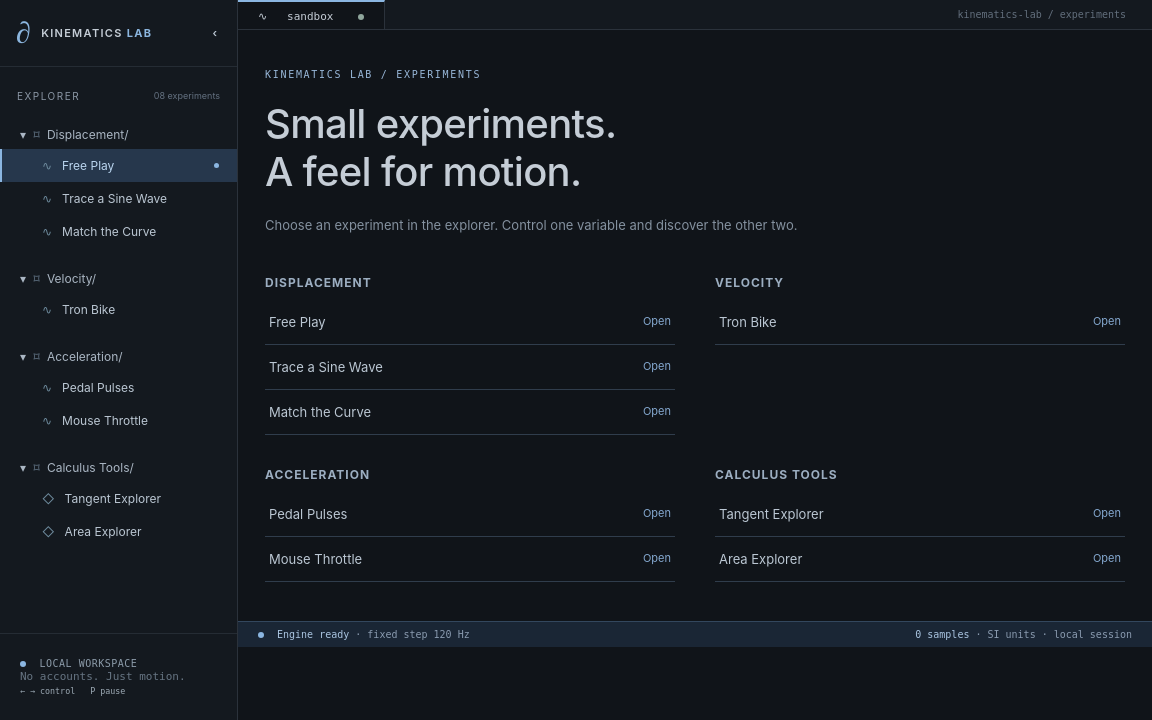
Scenario: stable countdown structure › retains the same scene, control nodes, and graph containers at GO: Free Play
The image size is (1152, 720).
Click the button "∿ Free Play": {"x": 118, "y": 166} [0,149,237,182]
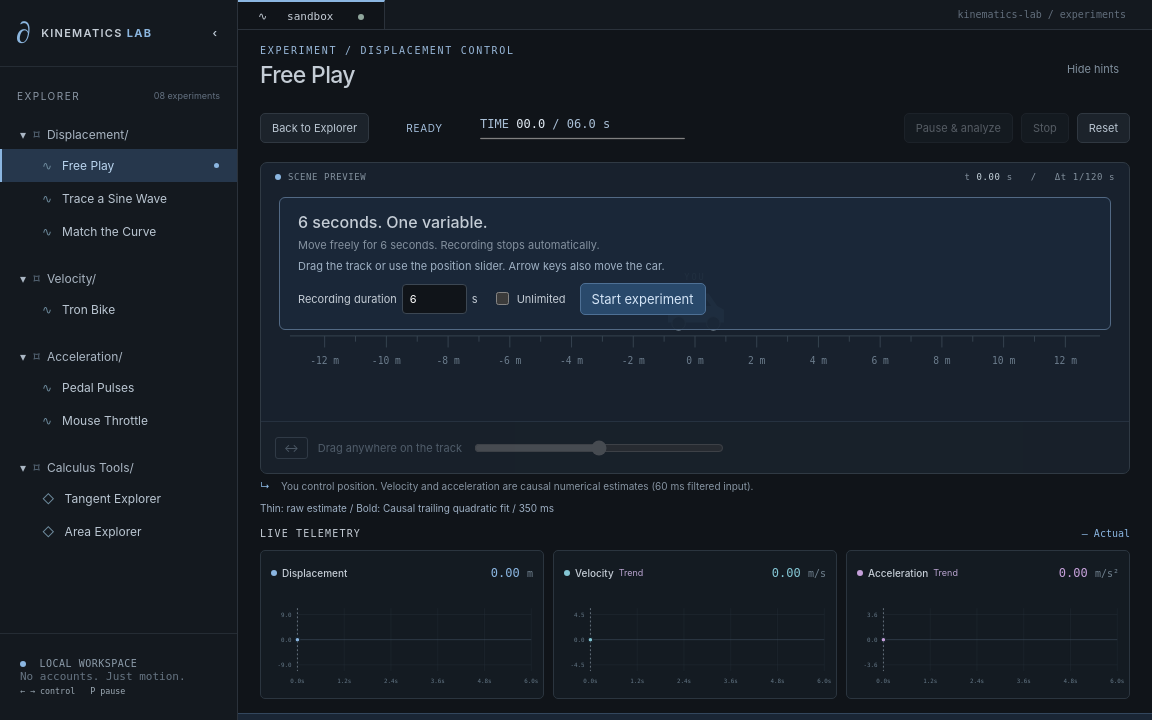
Click the button "Start experiment": {"x": 643, "y": 298} [580,282,706,314]
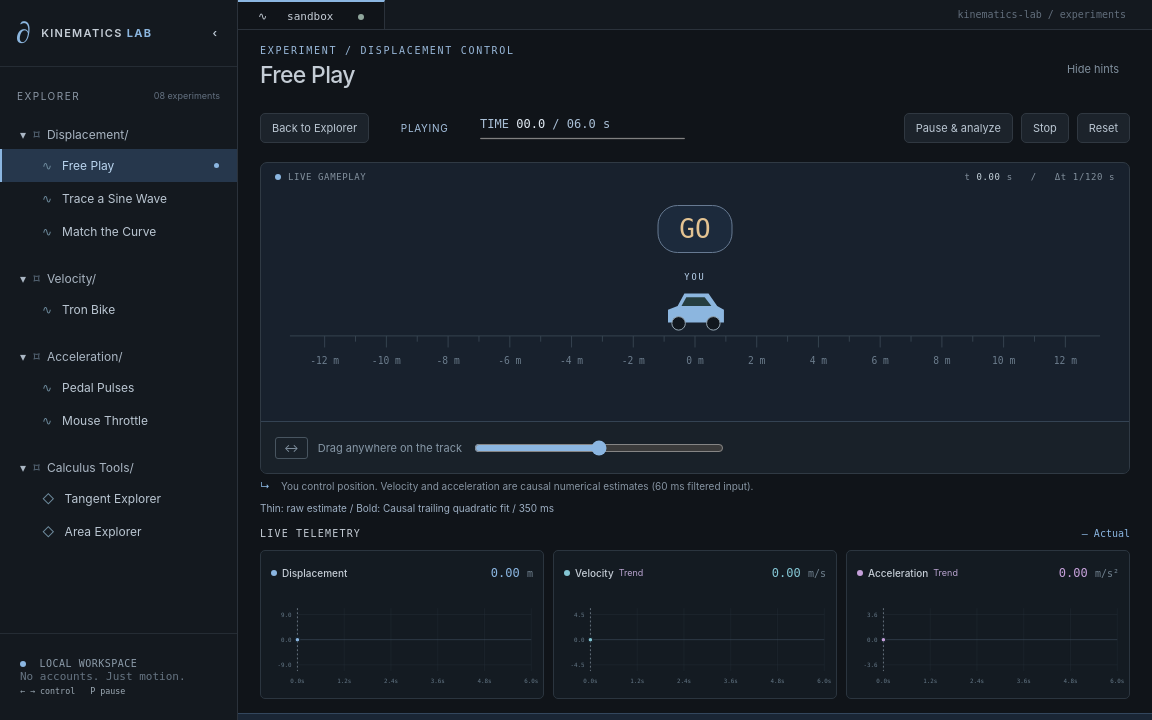
expect the message with class "countdown" reads "GO": met, box [679,214,711,244]
expect the element showing "↔ Drag anywhere on the track" is enabled: met, box [261,421,1129,473]
